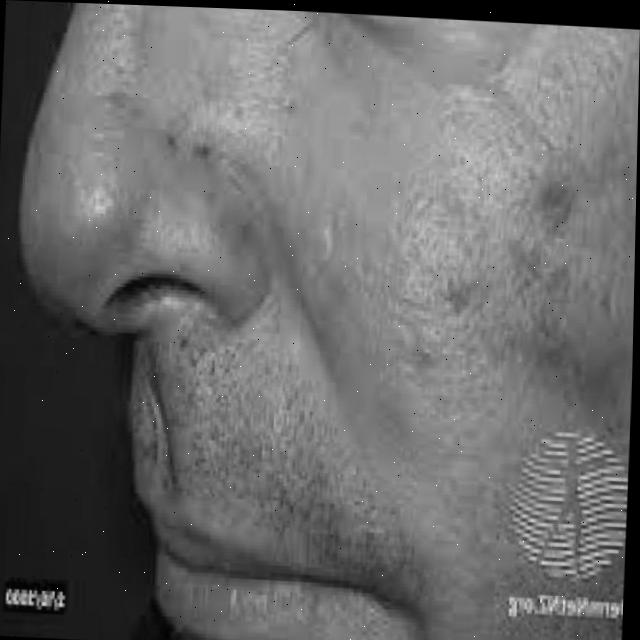Rosacea: (427, 145, 637, 431), (47, 2, 192, 256)
